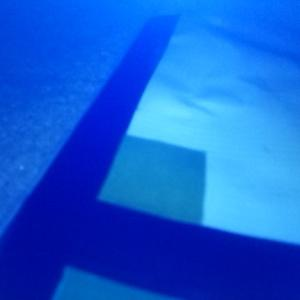bottom_right: (9, 224, 190, 300)
top_right: (74, 134, 206, 267)
